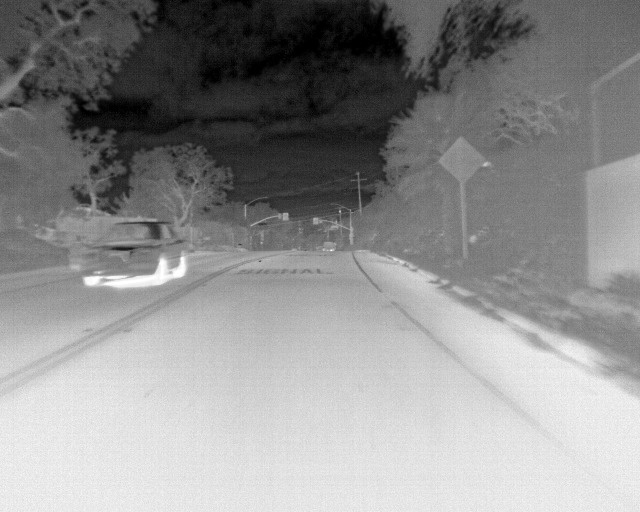vehicle: (79, 219, 188, 292)
